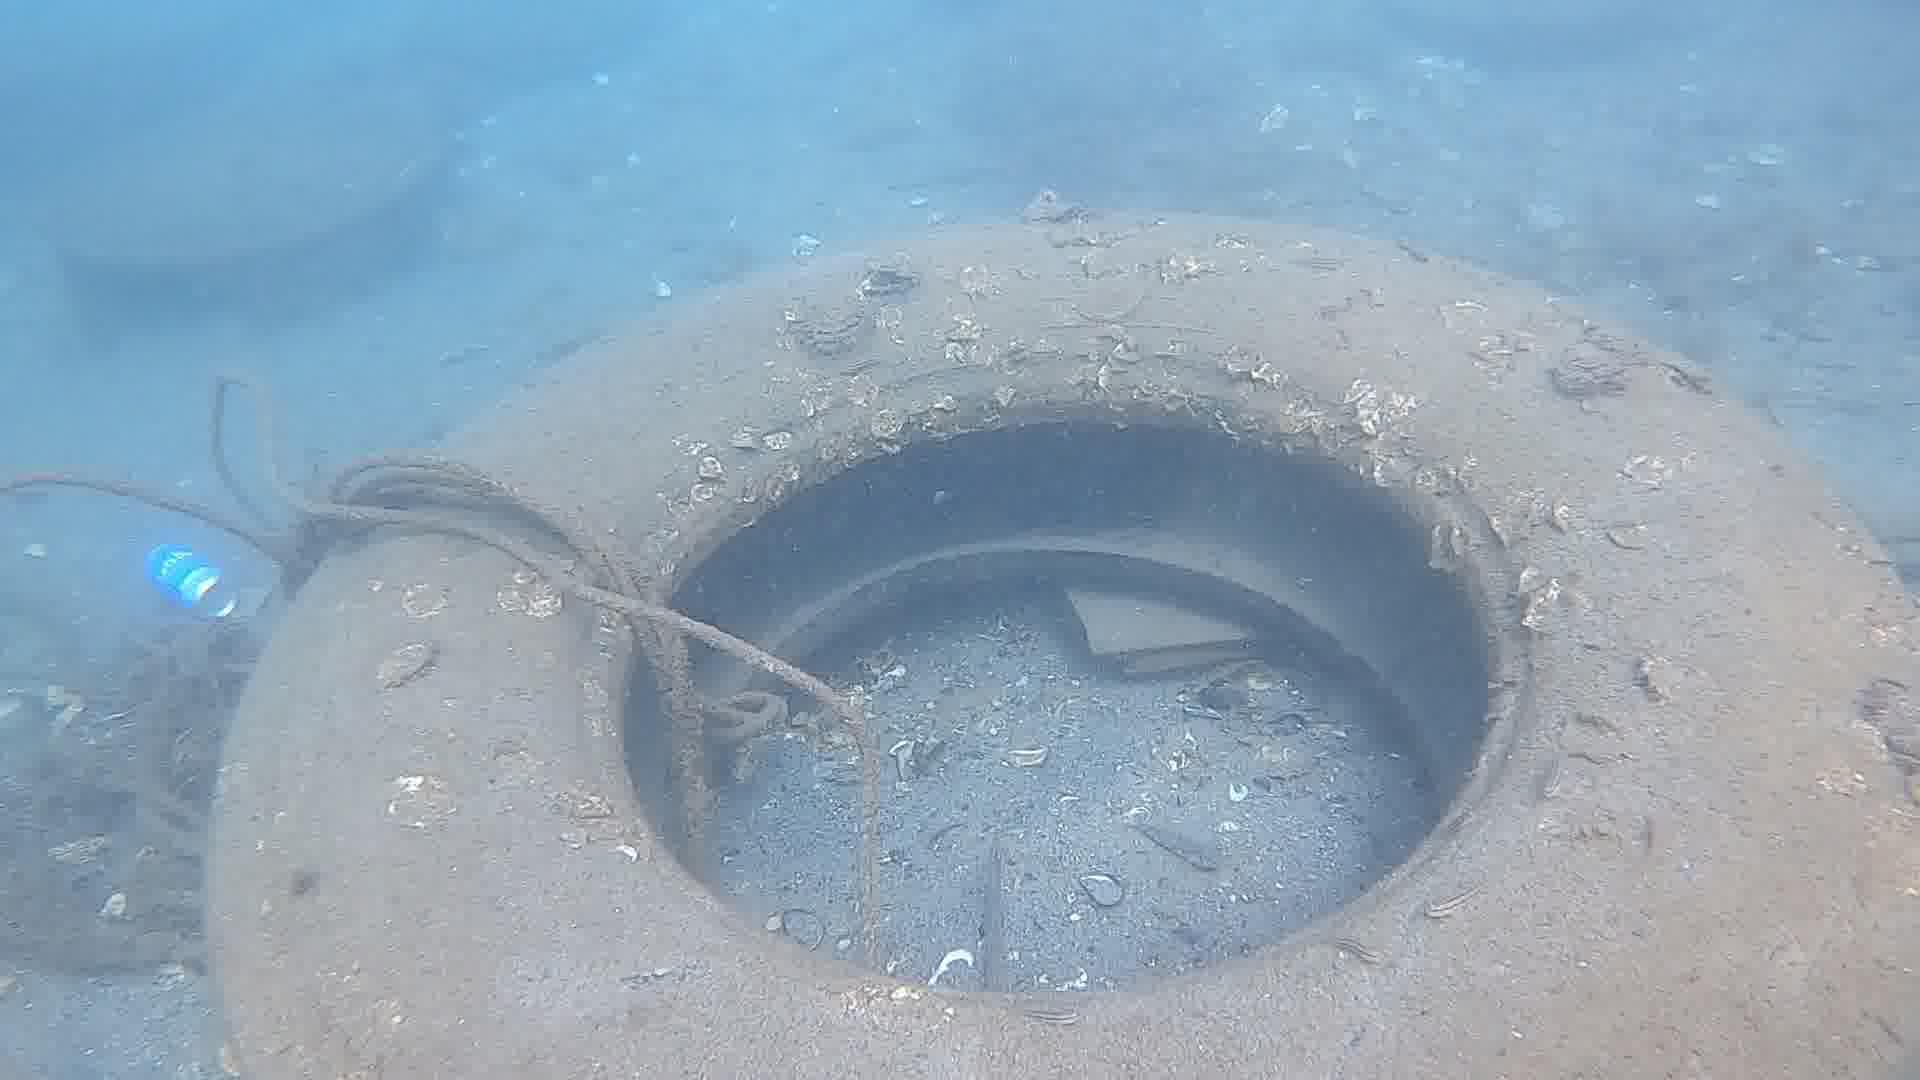bundle of ropes: (0, 368, 880, 971)
tire: (200, 208, 1920, 1080)
